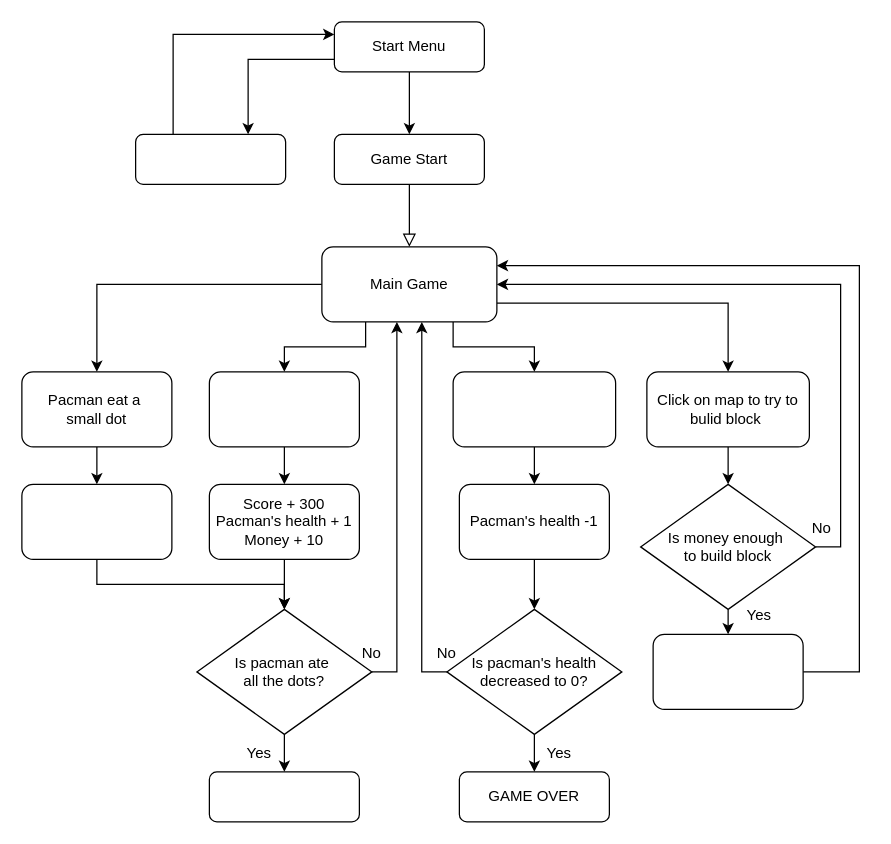
The diagram is 891 pixels wide and 844 high, and some of its shapes have lost their labels. The shapes that lost their labels are listed below. From the top down, each one's box as (x1, y1, x2, y2) in pixels, then its label:
(134, 133, 286, 184): Choose level
(208, 371, 359, 447): Pacman eat a big dot
(452, 371, 616, 447): Ghost caught pacman
(21, 483, 172, 559): Score + 10 Money + 1
(652, 633, 803, 709): Block is built
(208, 771, 359, 822): YOU WIN
